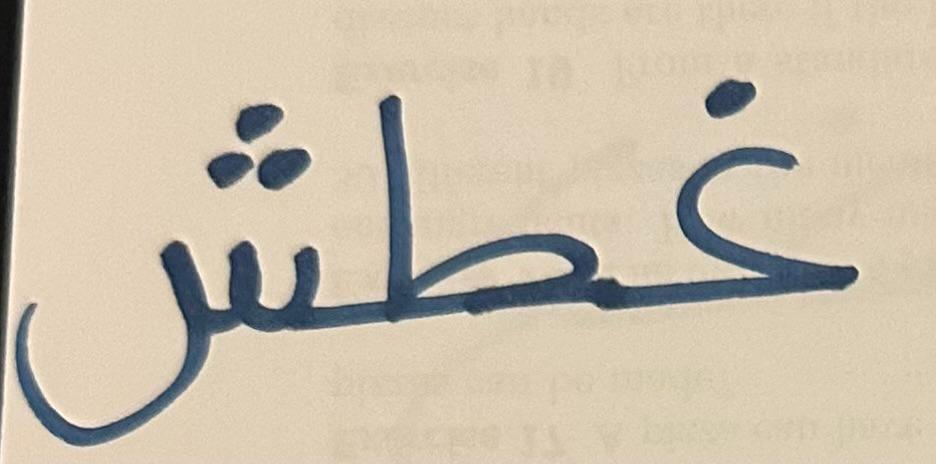ghain: (615, 22, 881, 371)
tah: (16, 46, 346, 458)
teh: (349, 63, 612, 385)
